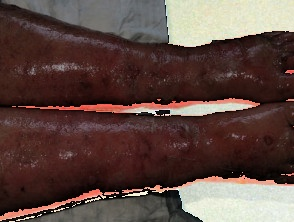SJS-TEN: (0, 102, 294, 222), (0, 0, 292, 114)
